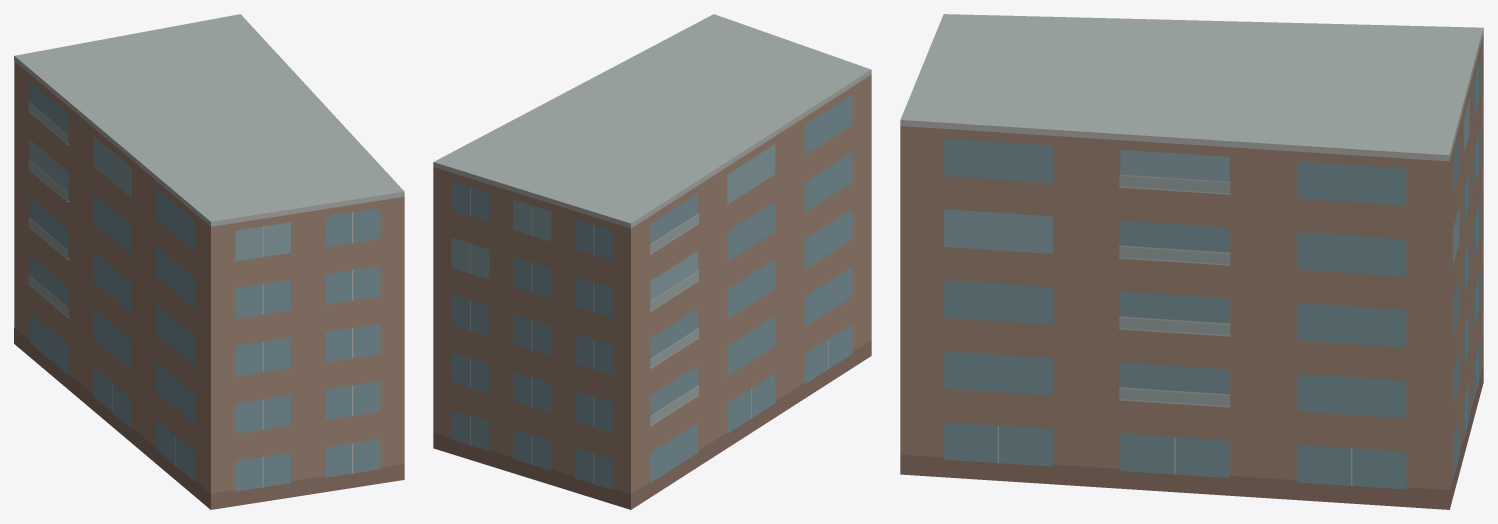
The model's file is survey-upis-32738085.glb.
The picture shows the model from 3 angles, left to right: view 1: azimuth 30°, elevation 25°; view 2: azimuth 150°, elevation 25°; view 3: azimuth 270°, elevation 25°; orthographic projection. The views are drawn at different scales.
Visible parts, largest first — view 1: survey-upis-32738085.tmp; view 2: survey-upis-32738085.tmp; view 3: survey-upis-32738085.tmp.
Boxes of the visible parts, bbox=[...] form: survey-upis-32738085.tmp: bbox=[14, 14, 404, 509]; survey-upis-32738085.tmp: bbox=[433, 14, 871, 509]; survey-upis-32738085.tmp: bbox=[900, 14, 1483, 509].
Bounding box in the file's own units: 12.06 × 14.1 × 21.03.
